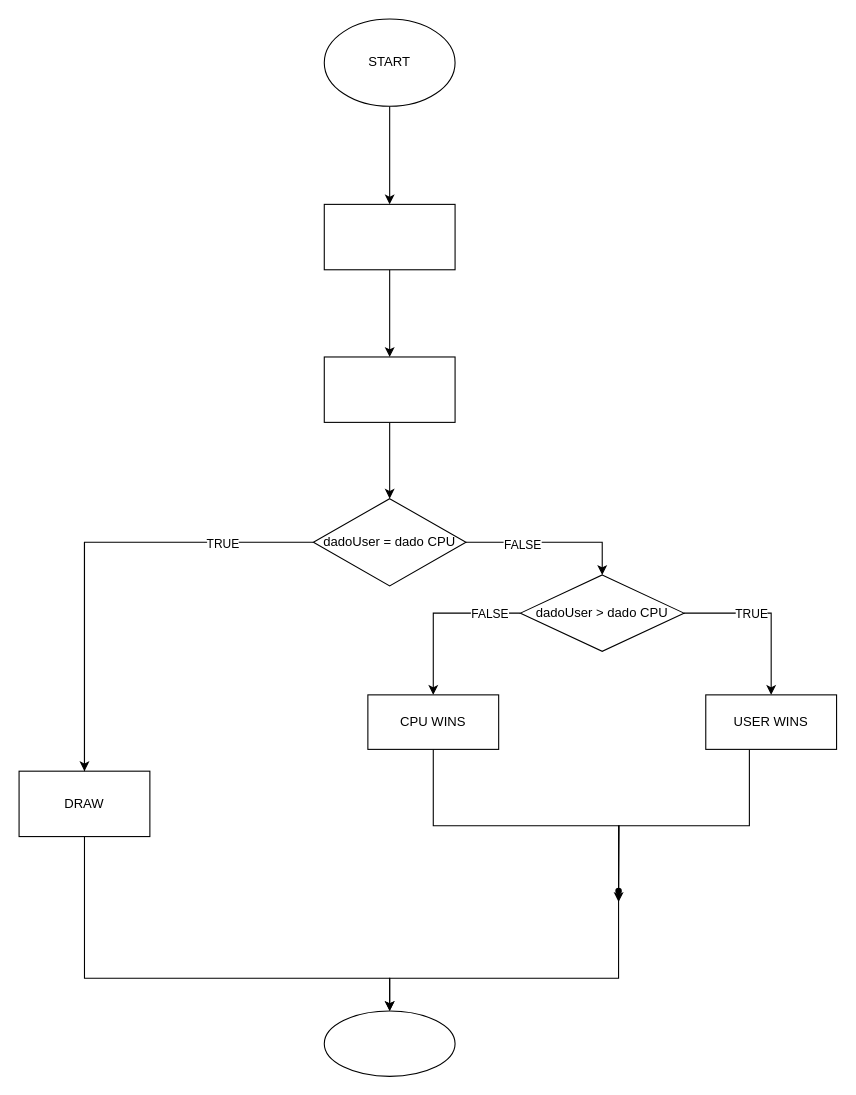
Some shapes in this 856 by 1095 pixel diagram are drawn without their labels. The shapes that lost their labels are listed below. From the top down, each one's centre as x and y in pixels, then its label:
At (389,236): "User lancia dado".
At (389,389): "CPU lancia dado".
At (389,1043): "END".
